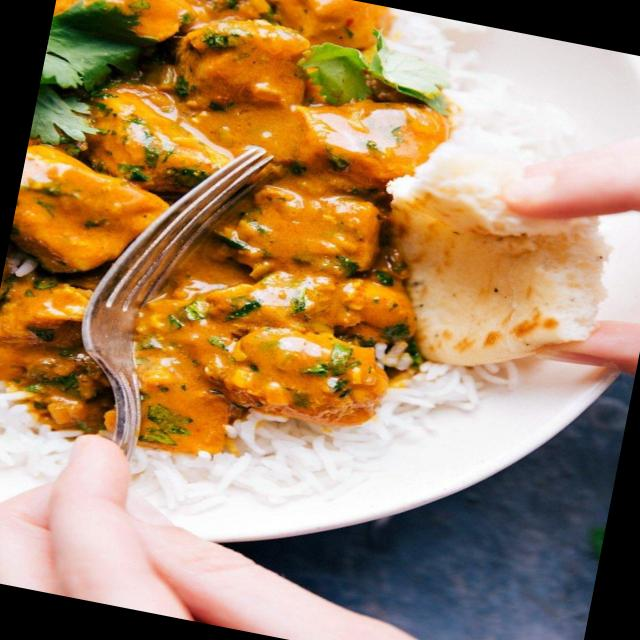chicken: (0, 0, 401, 453)
